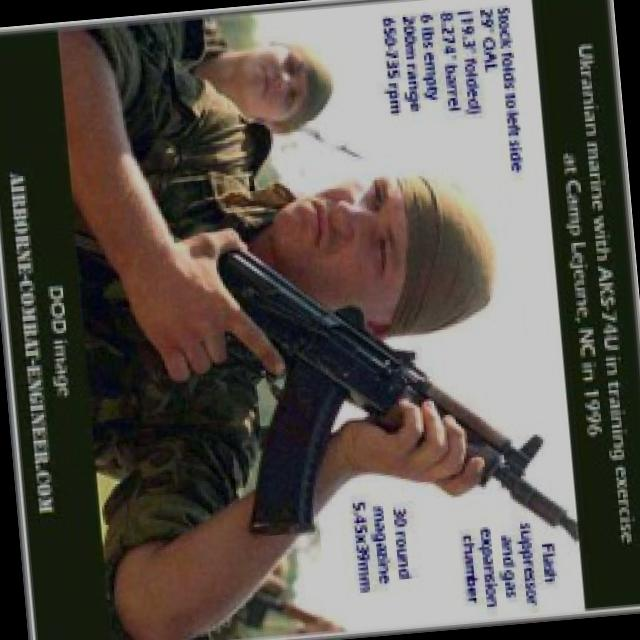long weapon: (156, 172, 590, 602)
